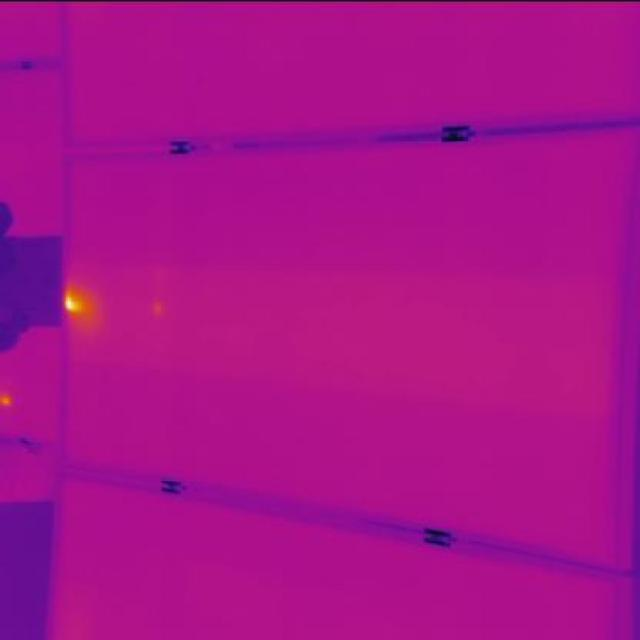hotspot: (58, 284, 93, 321)
